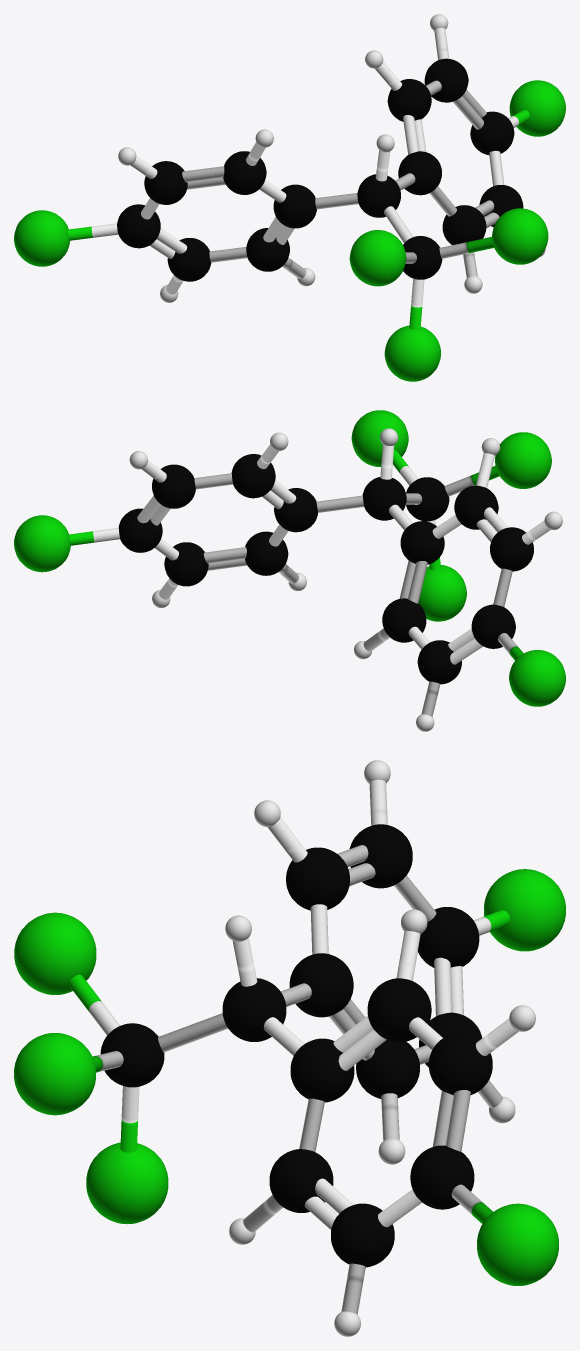
File: ddt_molecule.glb
The picture shows the model from 3 angles, top to bottom: view 1: azimuth 30°, elevation 25°; view 2: azimuth 150°, elevation 25°; view 3: azimuth 270°, elevation 25°; orthographic projection. The views are drawn at different scales.
Visible parts, largest first — view 1: Bonds_2; view 2: Bonds_2; view 3: Bonds_2.
Boxes of the visible parts, x1,y1,x2,y2 form: Bonds_2: [14, 14, 565, 381]; Bonds_2: [14, 410, 565, 731]; Bonds_2: [14, 760, 565, 1336].
Bounding box in the file's own units: 10.98 × 4.67 × 6.64.
